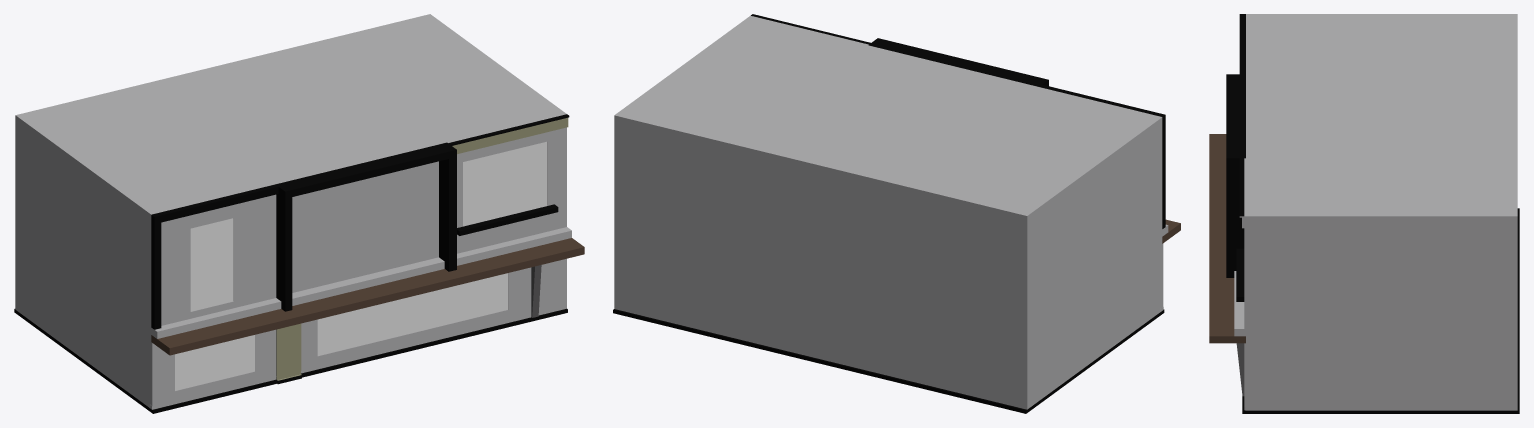
File: Shoppingventer2.fbx
3 renders of one model, left to right at view 1: azimuth 30°, elevation 25°; view 2: azimuth 150°, elevation 25°; view 3: azimuth 270°, elevation 25°, orthographic.
Parts seen in each view (by area): view 1: Cube.006, Plane.005, Plane.006, Plane.003, Plane.004; view 2: Cube.006; view 3: Cube.006.
Boxes of the visible parts, x1,y1,x2,y2 form: Cube.006: [14, 14, 584, 413]; Plane.005: [317, 273, 508, 355]; Plane.006: [463, 141, 547, 225]; Plane.003: [190, 218, 233, 311]; Plane.004: [175, 335, 254, 390]; Cube.006: [613, 14, 1180, 413]; Cube.006: [1209, 14, 1519, 413].
Bounding box in the file's own units: 7145 × 3257 × 4635.
